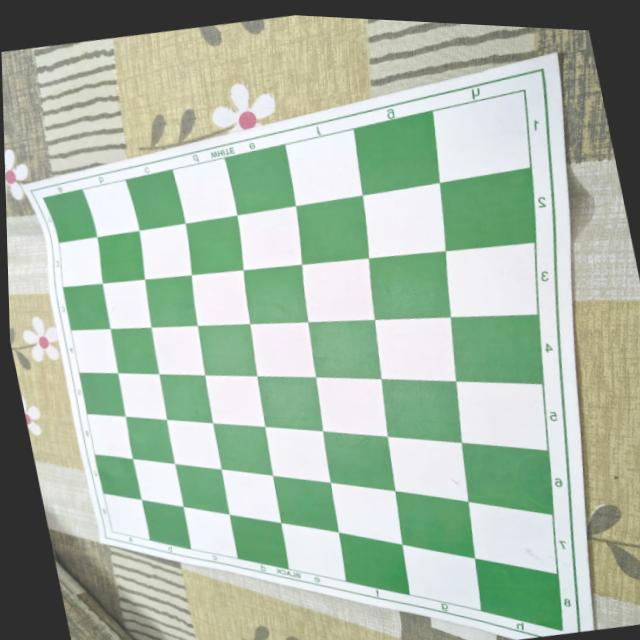square: (421, 84, 539, 187), (430, 161, 547, 257), (461, 490, 566, 593), (437, 235, 550, 329), (443, 300, 551, 397), (450, 367, 556, 465), (459, 430, 559, 530), (468, 545, 573, 640), (346, 104, 445, 196), (376, 366, 470, 460), (357, 179, 454, 264), (365, 245, 460, 331), (389, 482, 477, 573), (368, 309, 460, 394), (384, 427, 472, 513), (302, 310, 390, 394), (279, 125, 364, 208), (252, 360, 336, 442), (296, 251, 380, 332), (312, 367, 394, 448), (318, 422, 398, 504), (288, 192, 373, 268), (237, 258, 317, 337), (219, 138, 297, 216), (333, 523, 408, 603), (245, 314, 320, 390), (230, 201, 307, 274), (269, 468, 341, 543), (401, 544, 477, 610), (170, 158, 239, 225), (185, 266, 252, 333), (179, 212, 247, 278), (194, 319, 259, 388), (330, 483, 401, 544), (139, 271, 204, 337), (123, 167, 185, 231), (279, 523, 345, 581), (89, 228, 149, 288), (264, 427, 329, 482), (80, 180, 140, 236), (229, 514, 288, 569), (203, 375, 264, 428), (212, 423, 273, 476), (106, 324, 162, 381), (220, 469, 280, 522), (41, 189, 97, 242), (139, 223, 191, 279), (182, 506, 237, 558), (59, 280, 109, 336), (174, 464, 228, 514), (157, 374, 211, 423), (150, 326, 204, 375), (166, 420, 220, 469), (101, 279, 151, 329), (132, 459, 183, 507), (141, 500, 190, 549), (117, 373, 166, 419), (125, 417, 174, 463), (102, 493, 149, 540), (58, 237, 102, 287), (78, 372, 125, 417), (94, 454, 141, 499), (86, 414, 132, 459), (70, 329, 117, 373)
